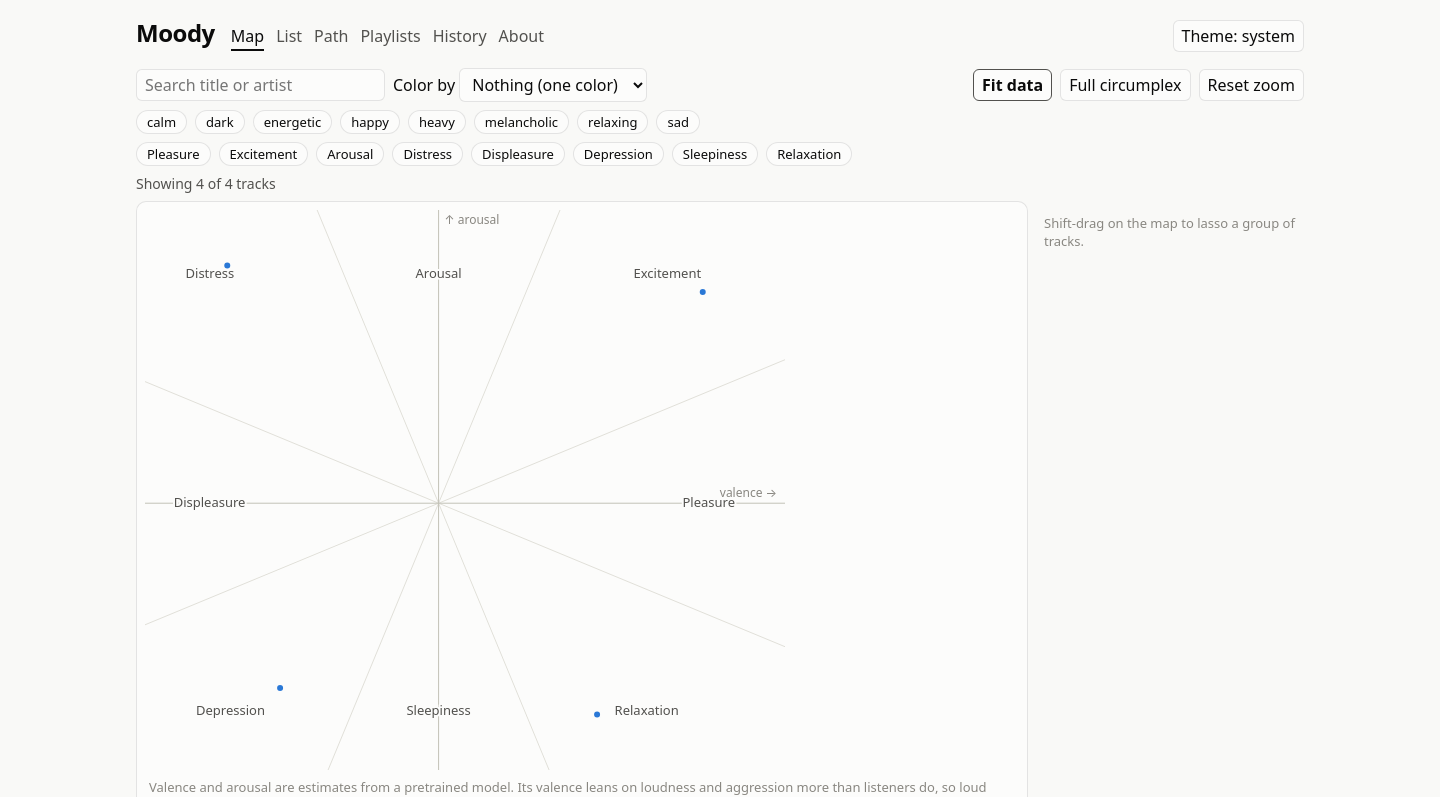
Test: filters update the visible count
The image size is (1440, 797).
Expected: the text "Showing 4 of 4 tracks" is shown, left=136, top=174, right=276, bottom=193
Click the button "happy" at (370, 122), box left=340, top=110, right=400, bottom=134
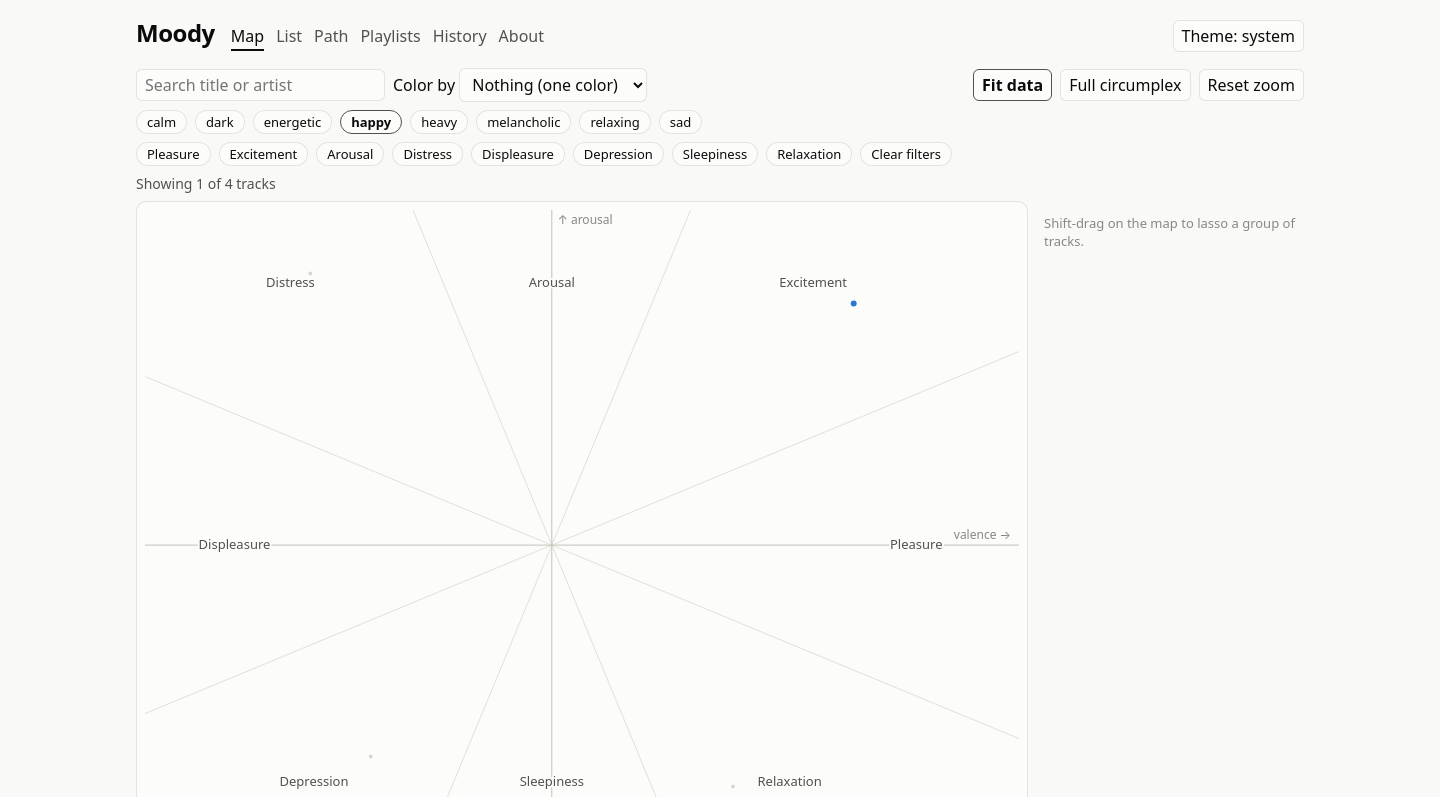
Expected: the text "Showing 1 of 4 tracks" is shown, left=136, top=174, right=276, bottom=193
Click the button "Clear filters" at (906, 154), box left=860, top=142, right=952, bottom=166
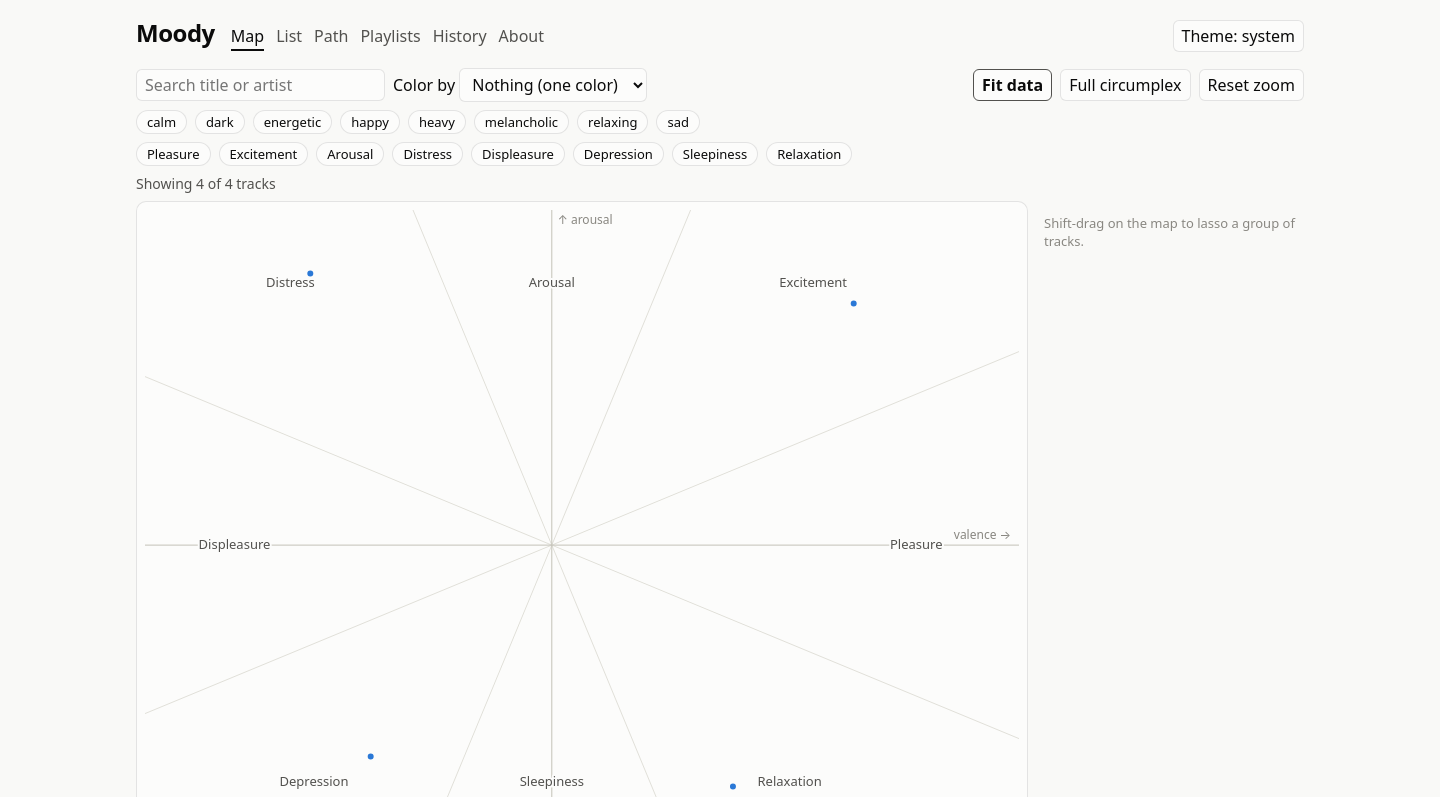
Type "band a" into the search field labelled "Search title or artist" at (260, 85), box left=136, top=69, right=385, bottom=101
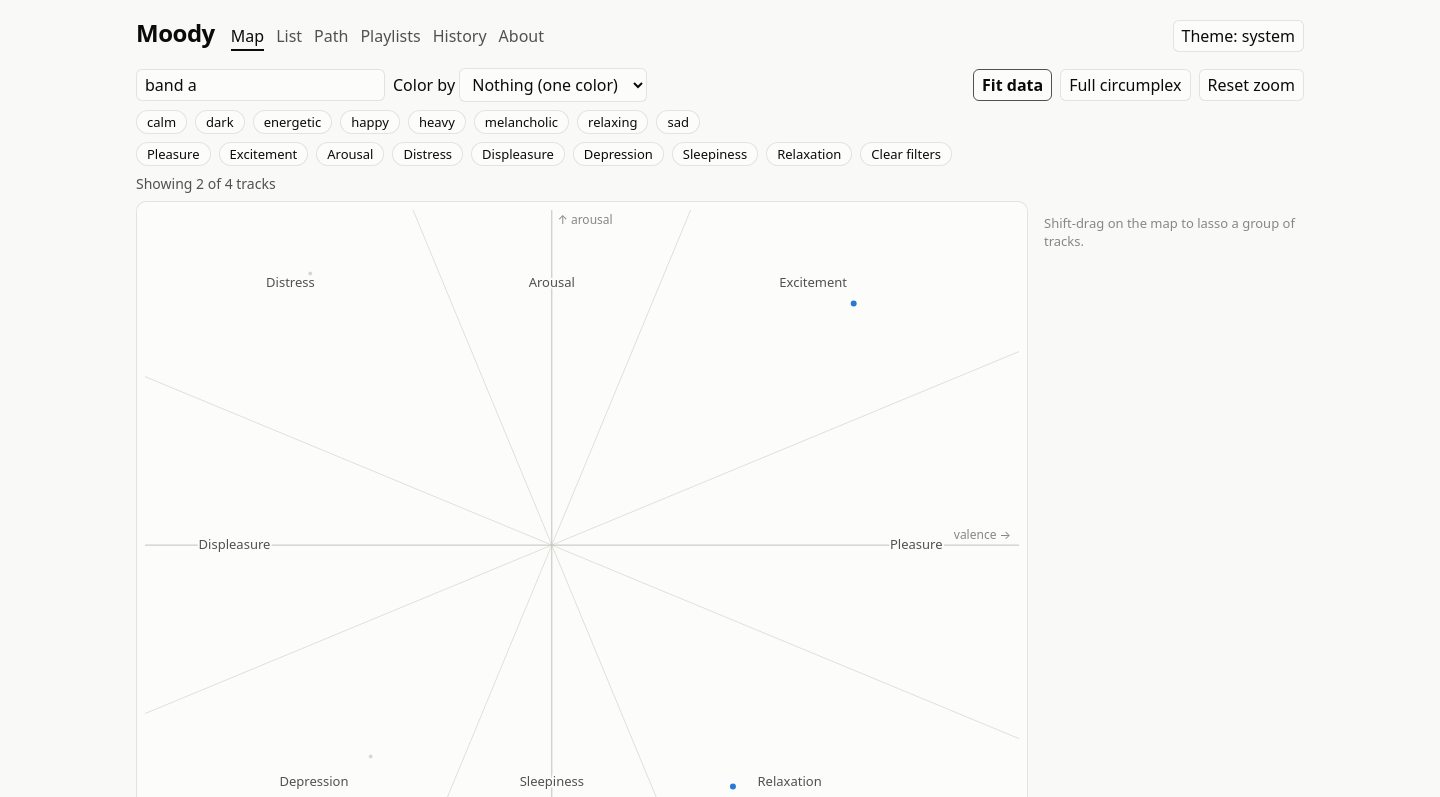
Expected: the text "Showing 2 of 4 tracks" is shown, left=136, top=174, right=276, bottom=193
